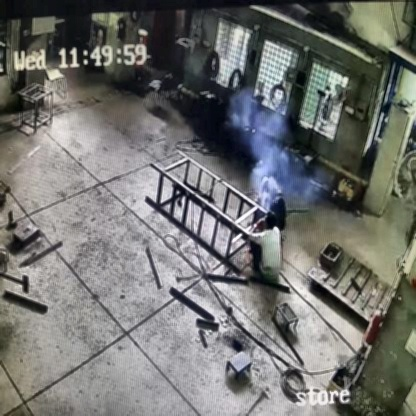smoke: (234, 90, 307, 206)
